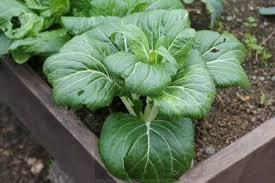Healthy-Pechay: (0, 1, 184, 63), (93, 89, 197, 183), (49, 61, 214, 110), (167, 30, 241, 103)
